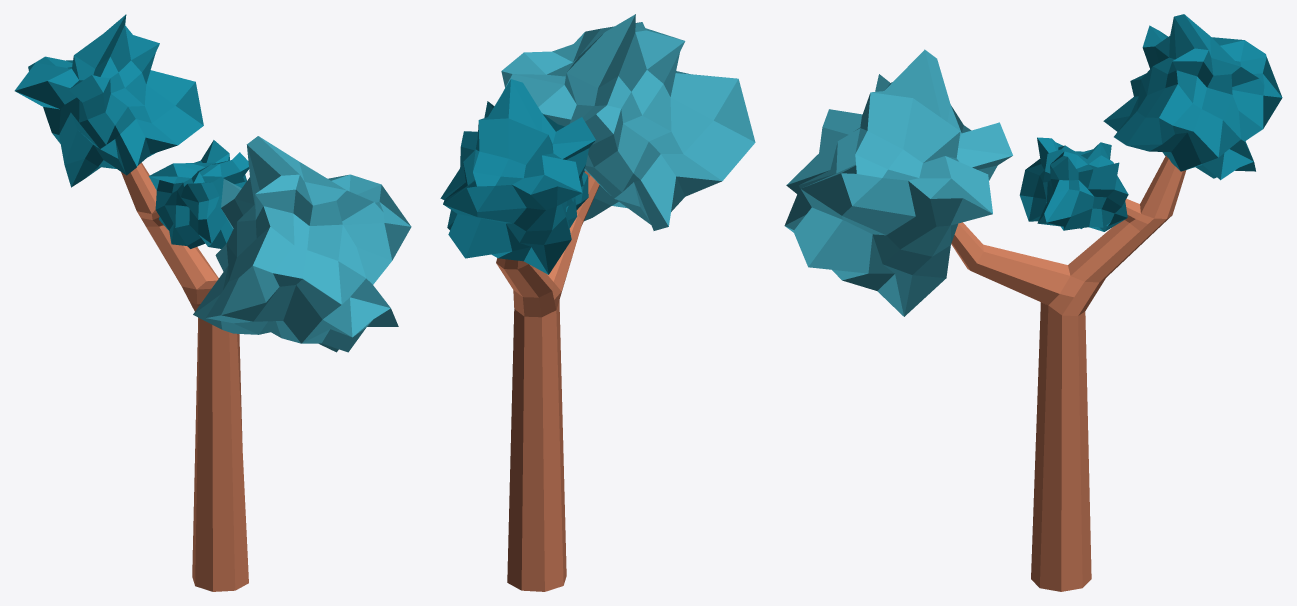
The model's file is Tree_03_summer_blue_mat.fbx.
The picture shows the model from 3 angles, left to right: view 1: azimuth 30°, elevation 25°; view 2: azimuth 150°, elevation 25°; view 3: azimuth 270°, elevation 25°; orthographic projection. The views are drawn at different scales.
Visible parts, largest first — view 1: Tree_03_summer_blue_mat; view 2: Tree_03_summer_blue_mat; view 3: Tree_03_summer_blue_mat.
Part boxes in pixels (x1,y1,x2,y2): Tree_03_summer_blue_mat: (14, 14, 411, 591); Tree_03_summer_blue_mat: (440, 14, 755, 591); Tree_03_summer_blue_mat: (784, 14, 1282, 591).
Size of the model in its own units: 77.81 by 178 by 146.
